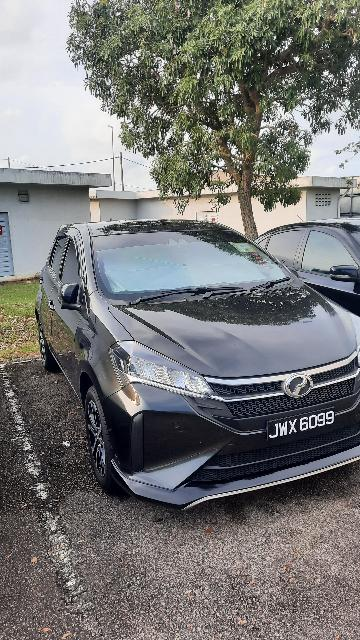License_Plate: (256, 403, 341, 448)
car: (32, 215, 360, 520)
